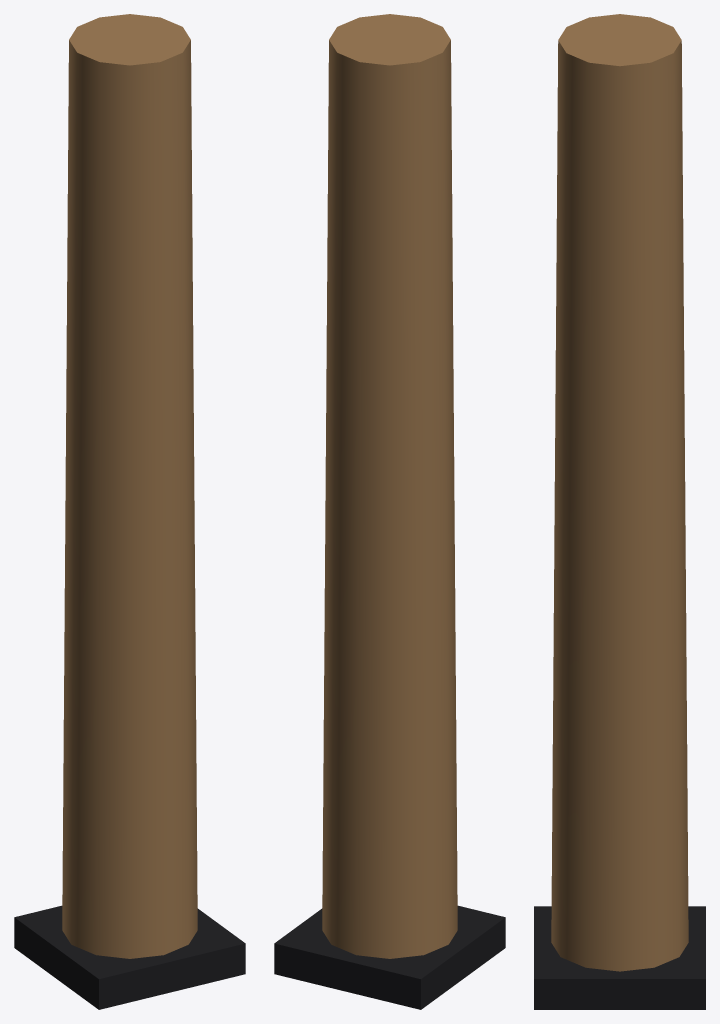
The picture shows the model from 3 angles, left to right: view 1: azimuth 30°, elevation 25°; view 2: azimuth 150°, elevation 25°; view 3: azimuth 270°, elevation 25°; orthographic projection.
Parts seen in each view (by area): view 1: yanzhu-round-a@1.0.0; view 2: yanzhu-round-a@1.0.0; view 3: yanzhu-round-a@1.0.0.
Boxes of the visible parts, bbox=[...] form: yanzhu-round-a@1.0.0: bbox=[14, 14, 245, 1009]; yanzhu-round-a@1.0.0: bbox=[274, 14, 505, 1009]; yanzhu-round-a@1.0.0: bbox=[534, 14, 705, 1009].
Bounding box in the file's own units: 0.5 × 3 × 0.5.
